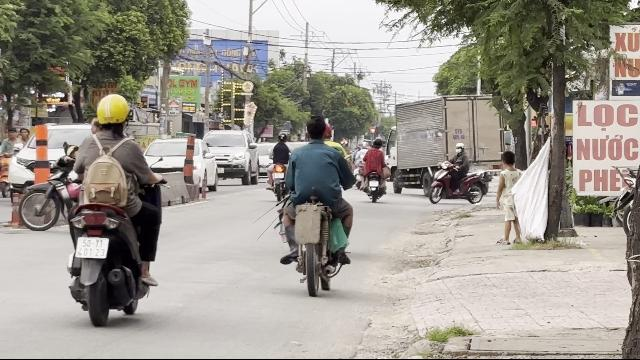helmet: (93, 93, 131, 134)
licenseplate: (76, 237, 108, 257)
motorcyclist: (62, 93, 166, 325), (272, 114, 356, 294)
nohelmet: (304, 116, 328, 140)
